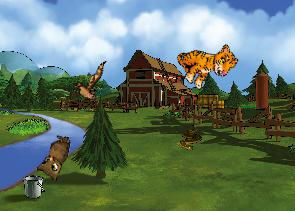eagle: (70, 61, 109, 110)
owl: (34, 131, 71, 182)
tiger: (171, 28, 241, 96)
